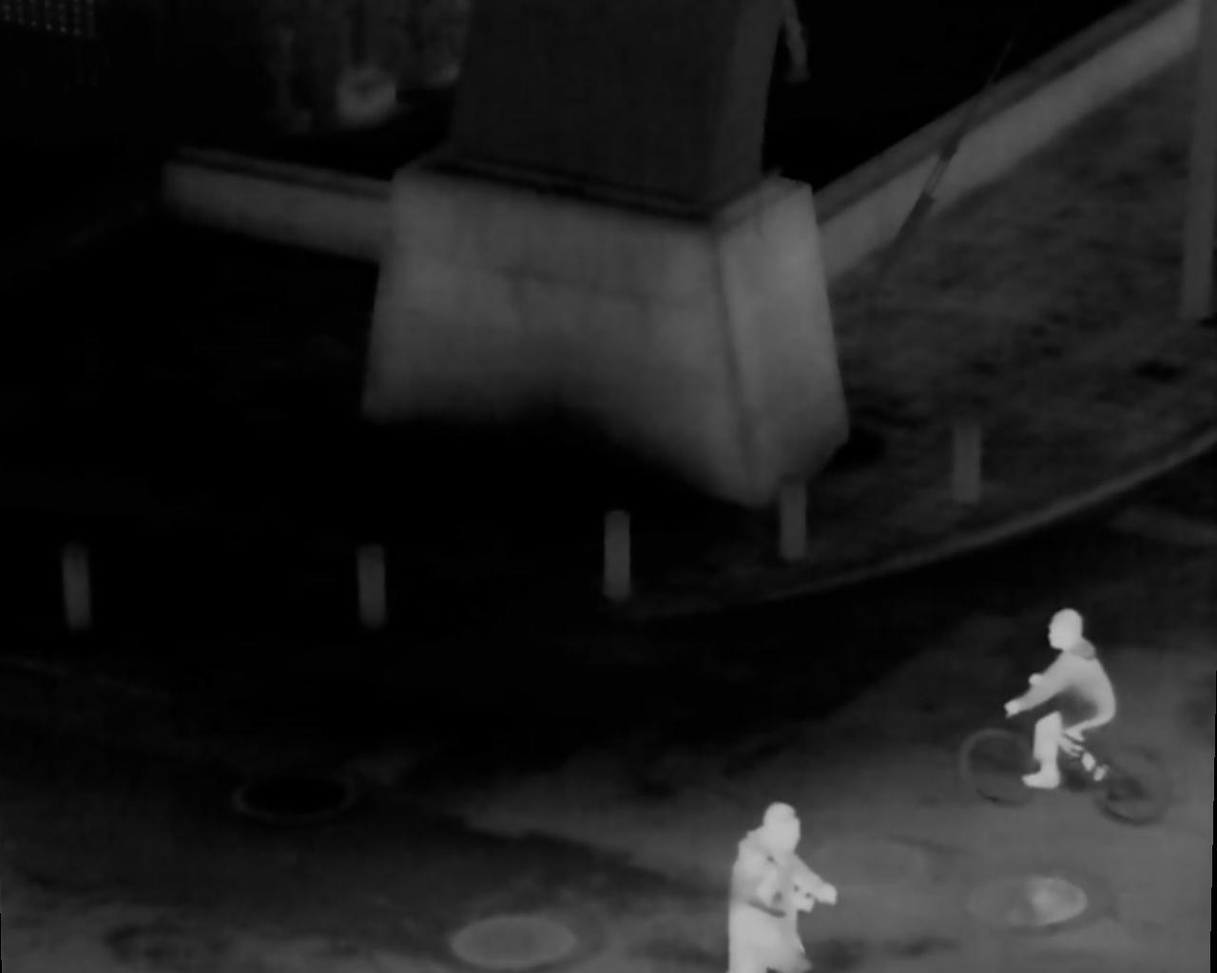person: (997, 611, 1126, 795), (731, 801, 818, 973)
